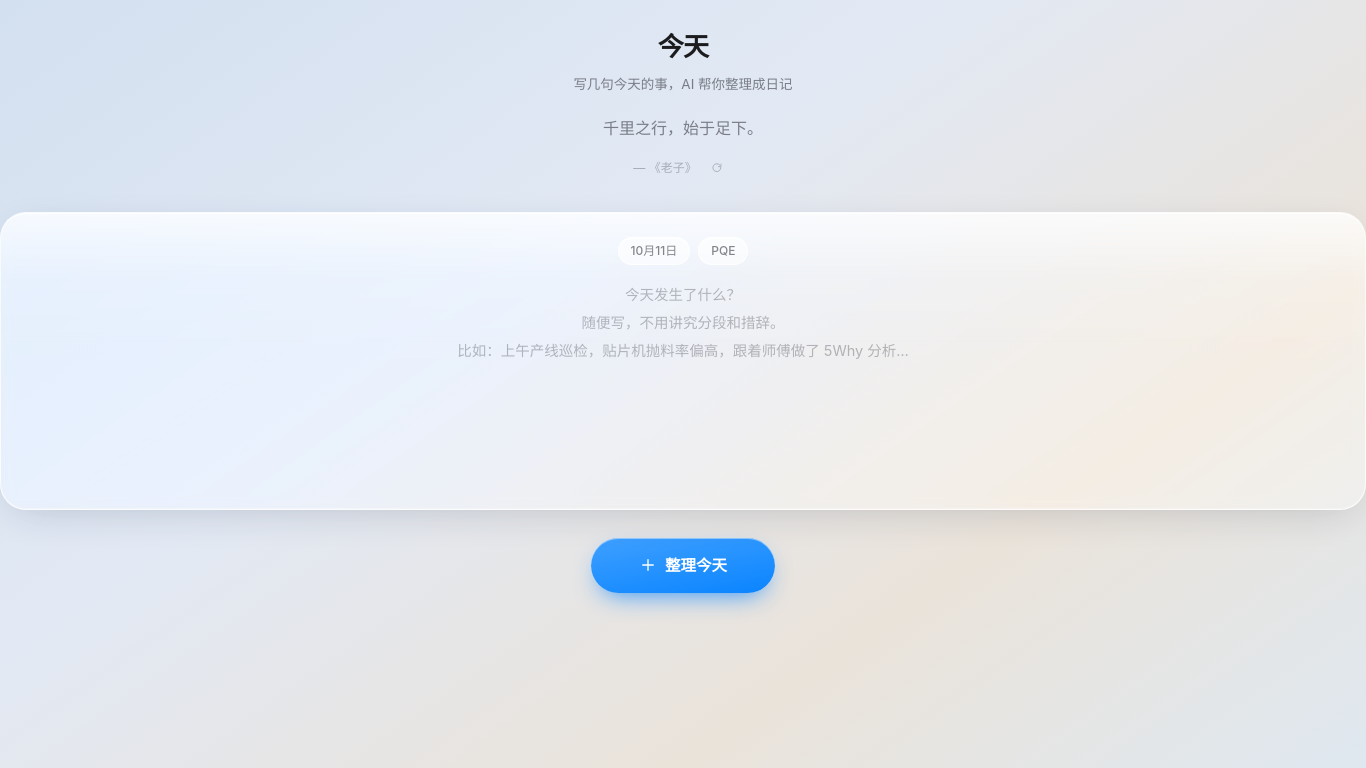
Test: DiaryCreatePage 岗位选择器 › 点击岗位胶囊打开自绘下拉并列出全部预设
This screenshot has width=1366, height=768.
Expected: the text box with placeholder "今天发生了什么？ 随便写，不用讲究分段和措辞。 比如：上午产线巡检，贴片机抛料率偏高，跟着师傅做了 5Why 分析…" is shown, top-left (29, 281), bottom-right (1337, 479)
Click the button titled "点击选择岗位" at x=723, y=251, box top-left (698, 237), bottom-right (748, 265)
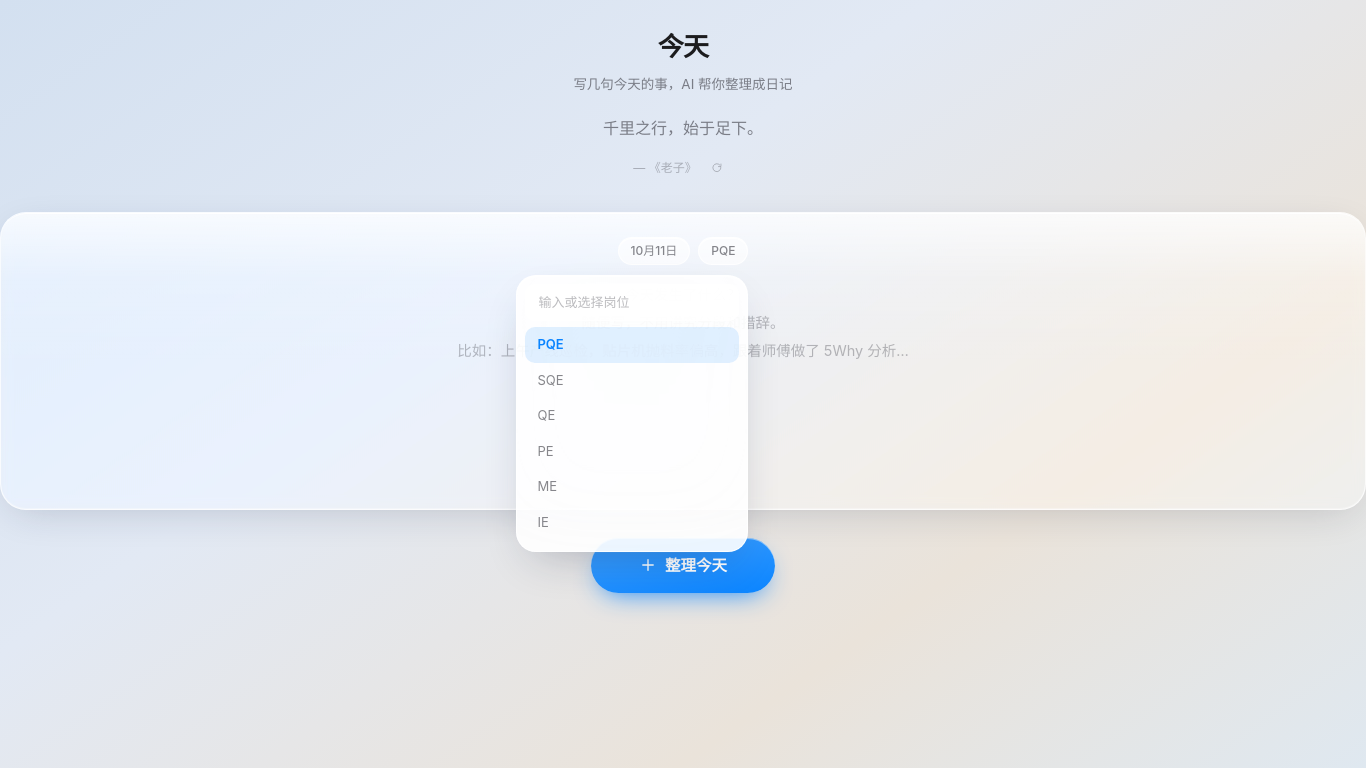
Result: the field with placeholder "输入或选择岗位" is shown at top-left (525, 284), bottom-right (739, 321)
Result: the button "SQE" is shown at top-left (525, 363), bottom-right (739, 398)
